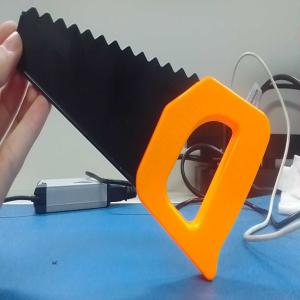serrote: (15, 6, 271, 282)
